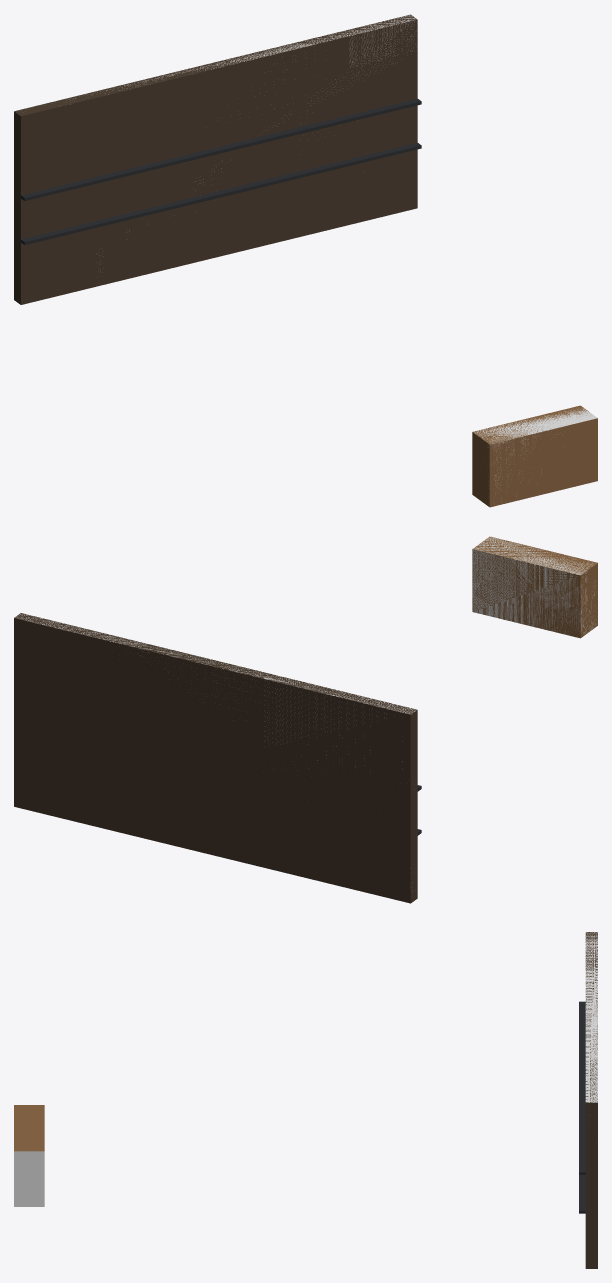
File: booth-range.glb
The picture shows the model from 3 angles, top to bottom: view 1: azimuth 30°, elevation 25°; view 2: azimuth 150°, elevation 25°; view 3: azimuth 270°, elevation 25°; orthographic projection. The views are drawn at different scales.
Visible parts, largest first — view 1: 01_#4a3a2c, 00_#8a6440_r320, 02_#2a2c30_noshadow, solid, solid.001; view 2: 01_#4a3a2c, 00_#8a6440_r320, solid, solid.001; view 3: 01_#4a3a2c, solid.001, solid, 02_#2a2c30_noshadow, 00_#8a6440_r320.
Part boxes in pixels (<box>): 01_#4a3a2c: <box>14,14,417,304</box>; 00_#8a6440_r320: <box>472,405,597,507</box>; 02_#2a2c30_noshadow: <box>21,98,421,244</box>; solid: <box>474,408,597,496</box>; solid.001: <box>69,15,417,230</box>; 01_#4a3a2c: <box>14,613,417,903</box>; 00_#8a6440_r320: <box>472,536,597,638</box>; solid: <box>472,536,595,636</box>; solid.001: <box>15,614,415,868</box>; 01_#4a3a2c: <box>585,932,597,1268</box>; solid.001: <box>585,932,597,1102</box>; solid: <box>14,1151,44,1206</box>; 02_#2a2c30_noshadow: <box>579,1001,585,1213</box>; 00_#8a6440_r320: <box>14,1105,44,1151</box>.
Bounding box in the file's own units: 6.6 × 3 × 9.55.
